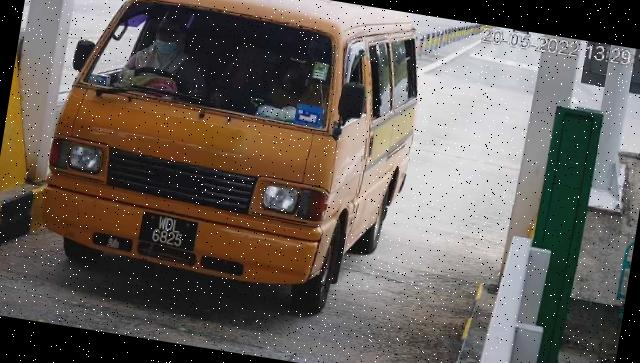License_Plate: (136, 203, 202, 259)
van: (32, 1, 434, 326)
